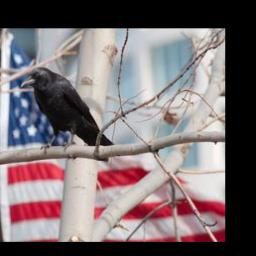Crow: (21, 65, 117, 158)
